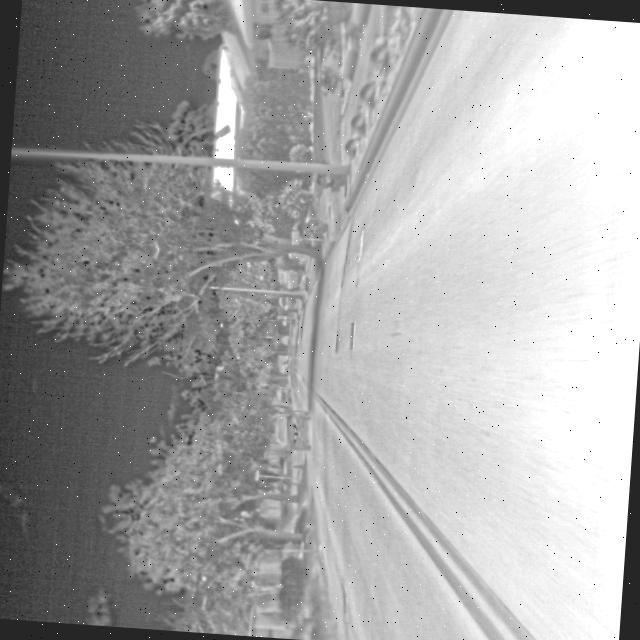Vehicle: (268, 406, 312, 454)
